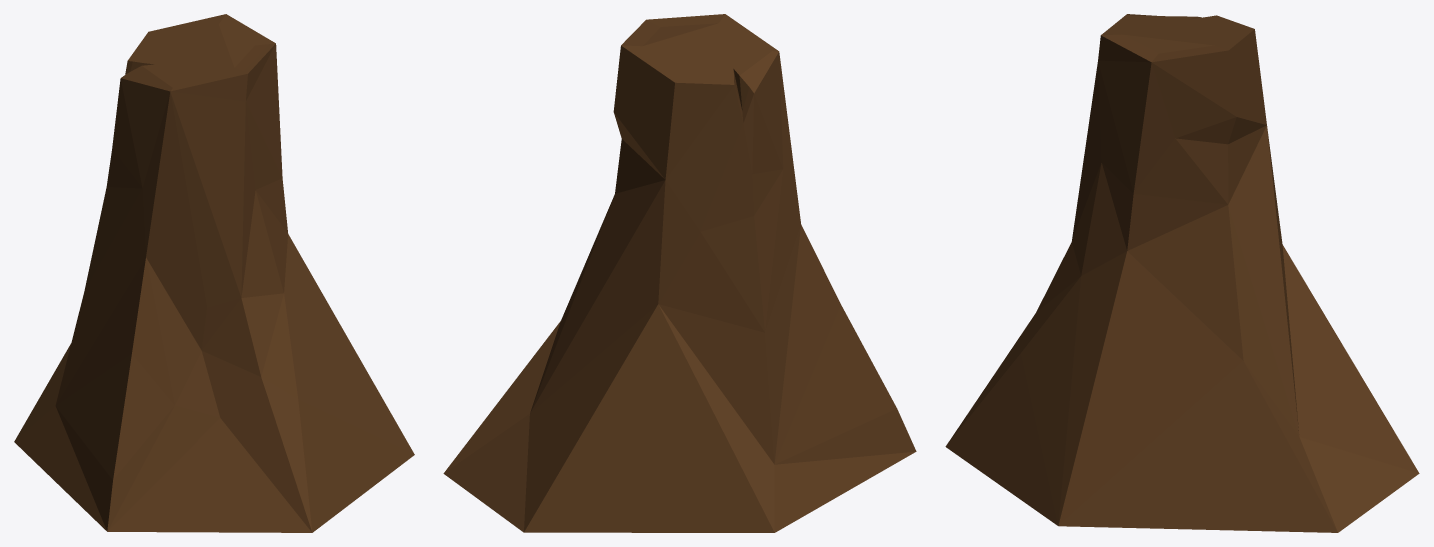
Rendered from SM_Tree_Birch_Stump_B.fbx.
3 renders of one model, left to right at view 1: azimuth 30°, elevation 25°; view 2: azimuth 150°, elevation 25°; view 3: azimuth 270°, elevation 25°, orthographic. The views are drawn at different scales.
Parts seen in each view (by area): view 1: tree-birch-stump-b; view 2: tree-birch-stump-b; view 3: tree-birch-stump-b.
Part boxes in pixels (x1,y1,x2,y2): tree-birch-stump-b: (14, 14, 414, 532); tree-birch-stump-b: (443, 14, 916, 532); tree-birch-stump-b: (945, 14, 1419, 532).
Size of the model in its own units: 0.5931 by 0.714 by 0.7272.
